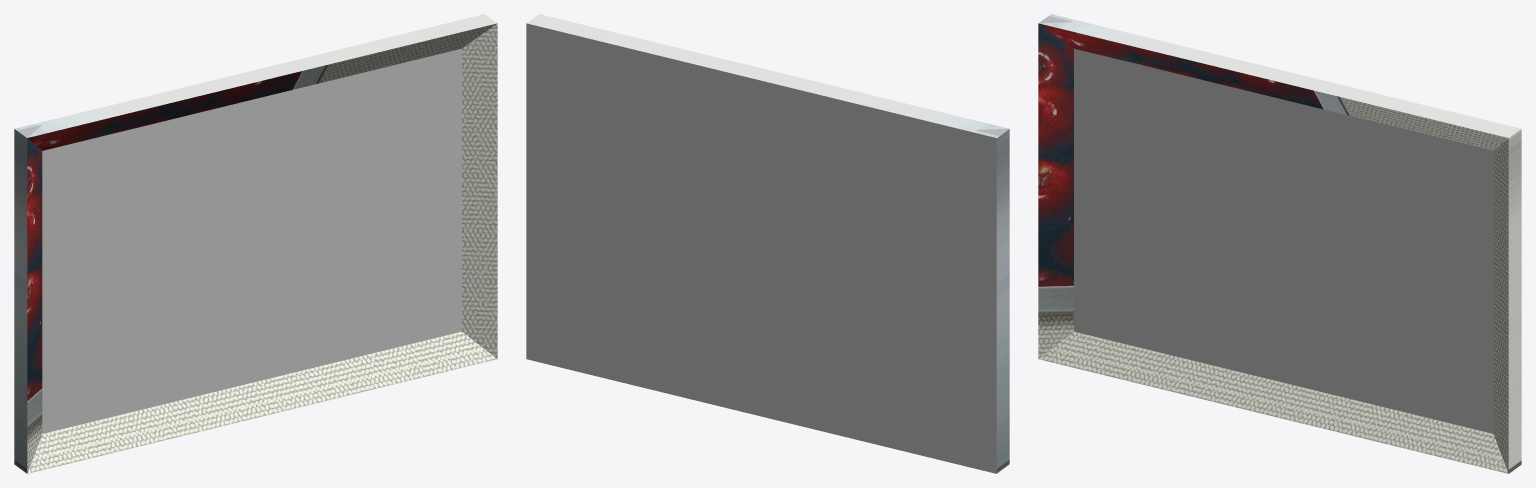
The model's file is picture_2.glb.
3 renders of one model, left to right at view 1: azimuth 30°, elevation 25°; view 2: azimuth 150°, elevation 25°; view 3: azimuth 330°, elevation 25°, orthographic.
Parts seen in each view (by area): view 1: root; view 2: root; view 3: root.
Boxes of the visible parts, left/top/right/bottom form: root: left=14, top=14, right=497, bottom=473; root: left=526, top=14, right=1009, bottom=473; root: left=1038, top=14, right=1521, bottom=473.
Size of the model in its own units: 0.85 by 0.58 by 0.04.
2 materials, 1 textured.
